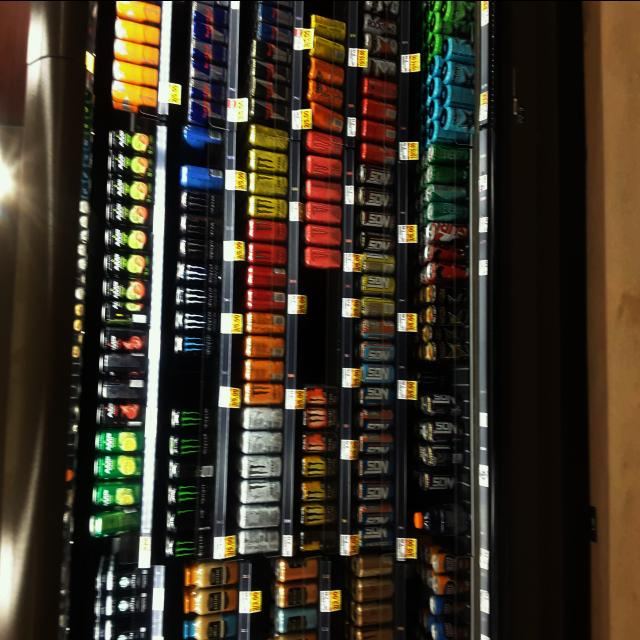empty_space: (302, 281, 335, 372), (176, 364, 208, 392), (96, 539, 132, 563), (188, 145, 220, 159), (316, 0, 340, 11)
